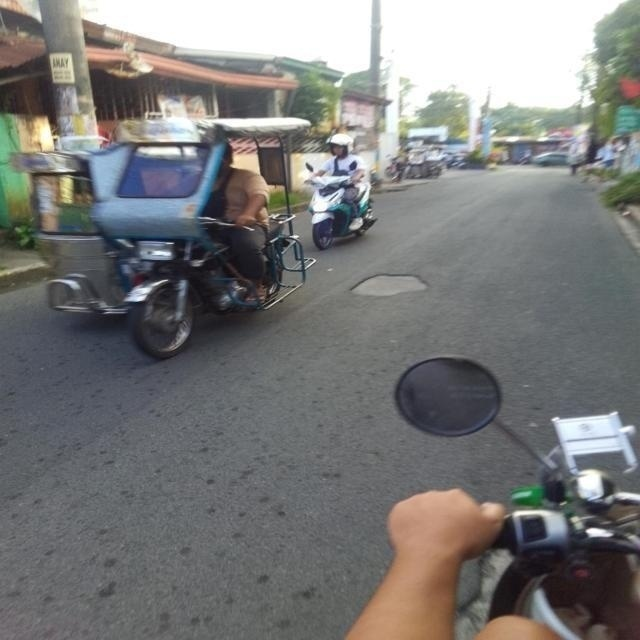pothole: (338, 258, 441, 304)
